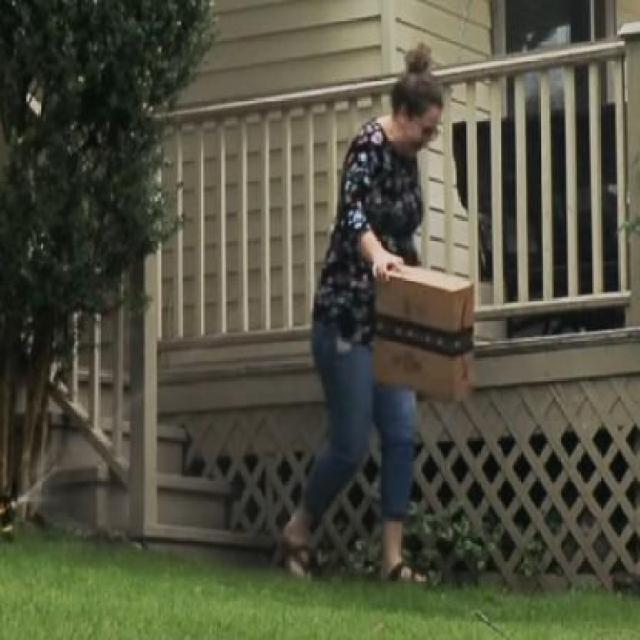cardboxes: (371, 260, 478, 405)
